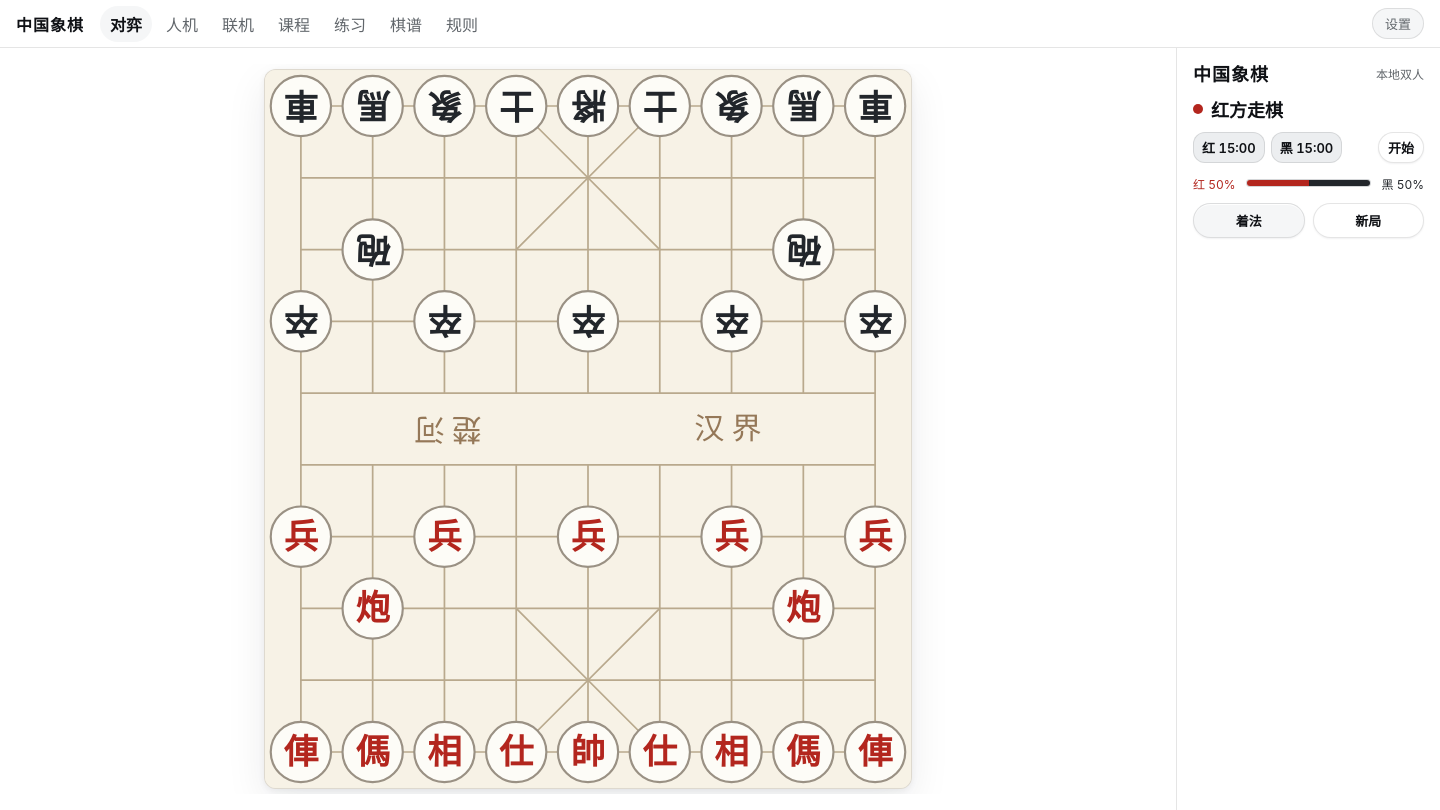
F1-8 面板记谱输入走子 › 输入「炮二平九」不落子，提示留在输入框下方
The width and height of the screenshot is (1440, 810).
Click the button "着法". click: [1249, 220]
box: [1193,203,1304,238]
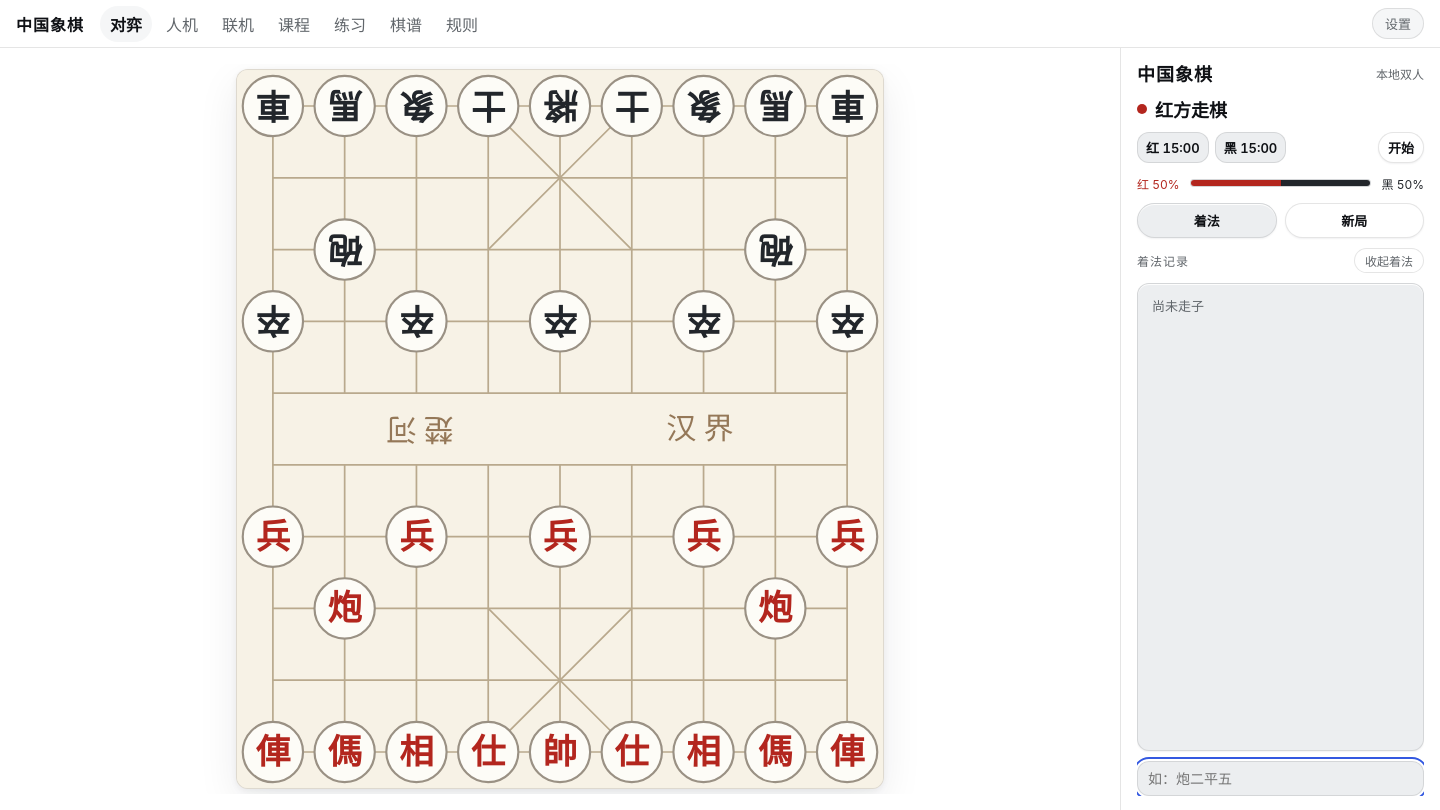
Type "炮二平九" into the field named "记谱输入". click: [1280, 778]
box: [1137,761,1424,796]
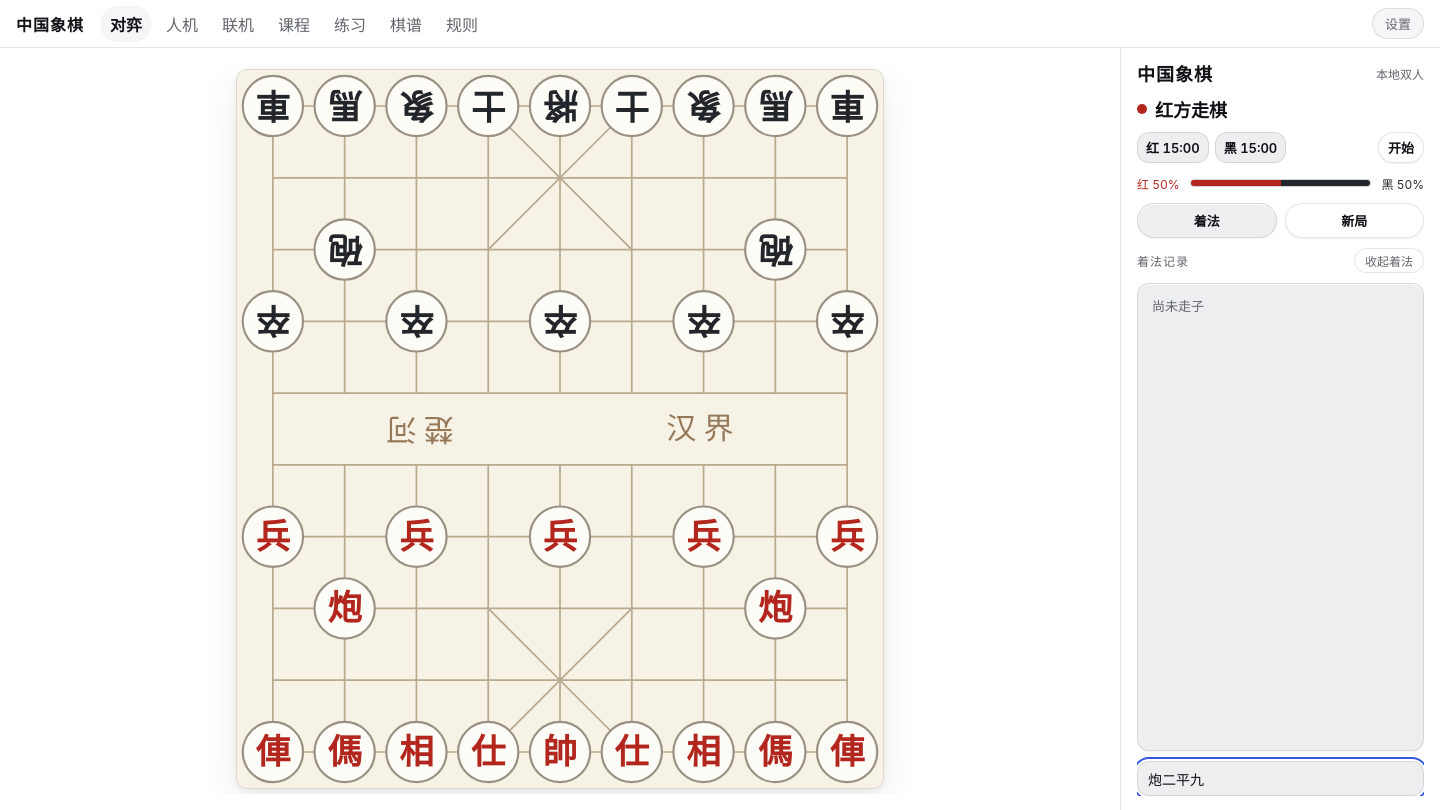
Press Enter in the field named "记谱输入", box [1137,761,1424,796]
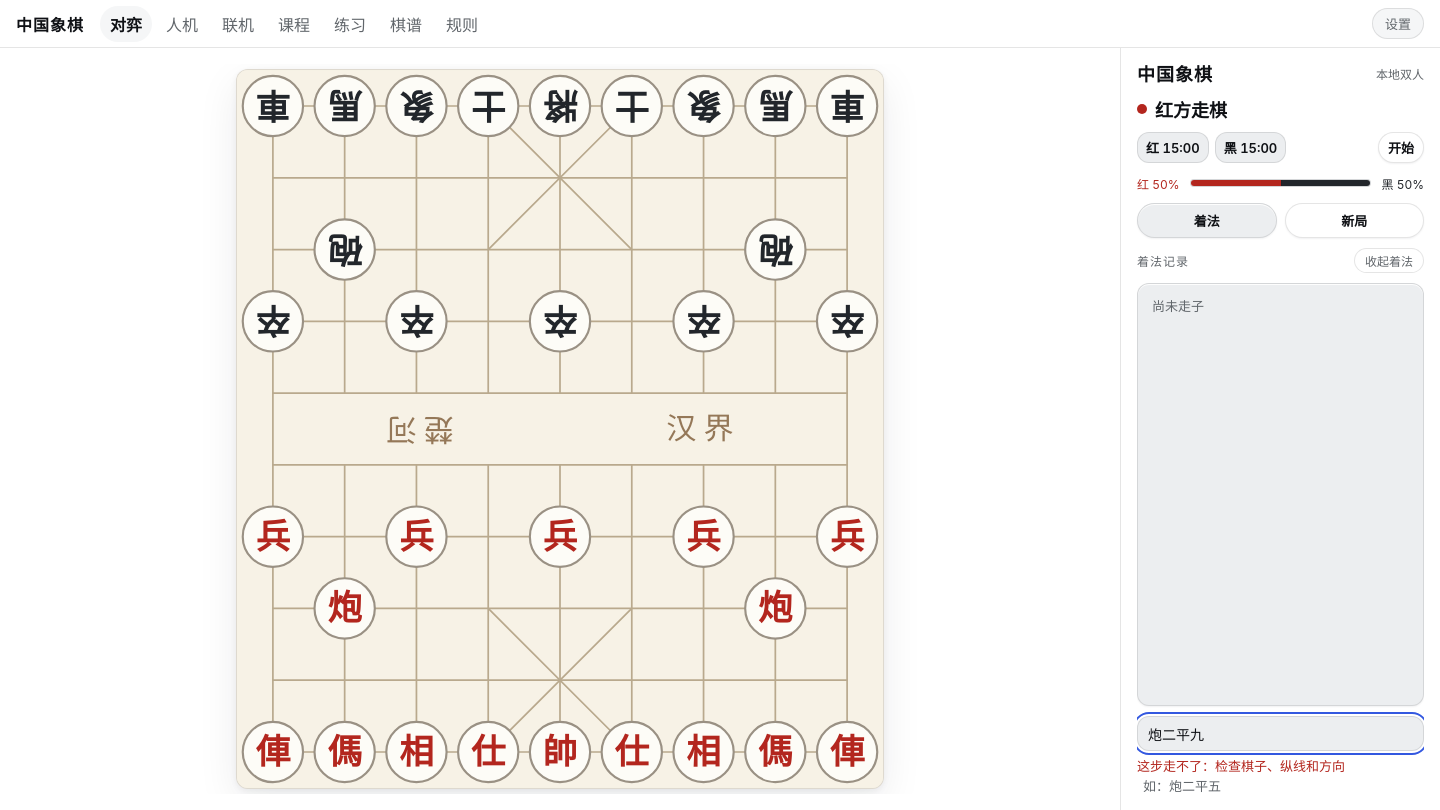
Expected: the message with class "status-line" reads "红方走棋", [1155,100,1227,121]
Expected: the text "尚未走子" is shown, [1152,298,1204,314]
Expected: the text "如：炮二平五" is shown, [1143,778,1221,794]
